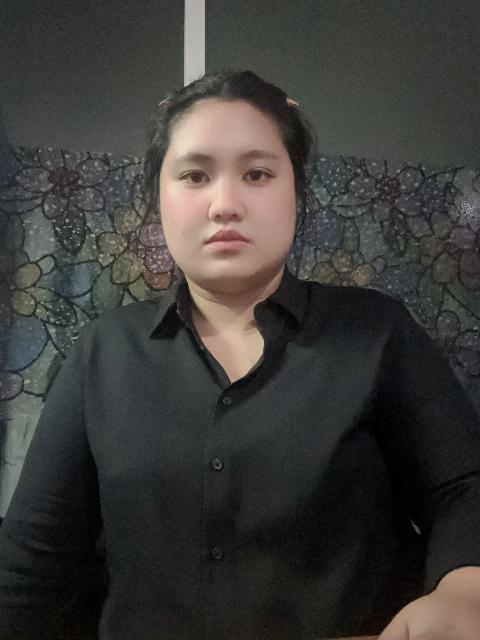fokus: (160, 89, 300, 293)
